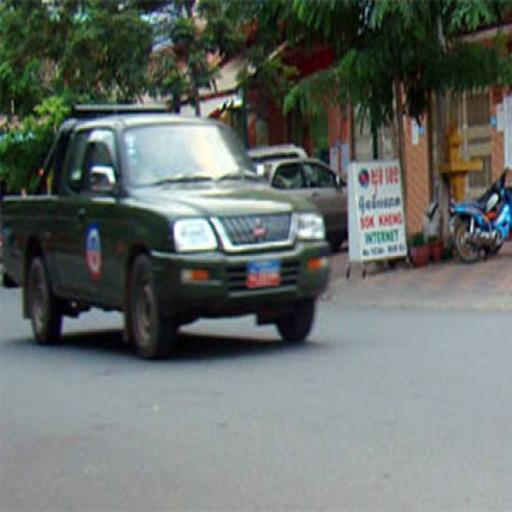Plate Number: (246, 258, 281, 286)
